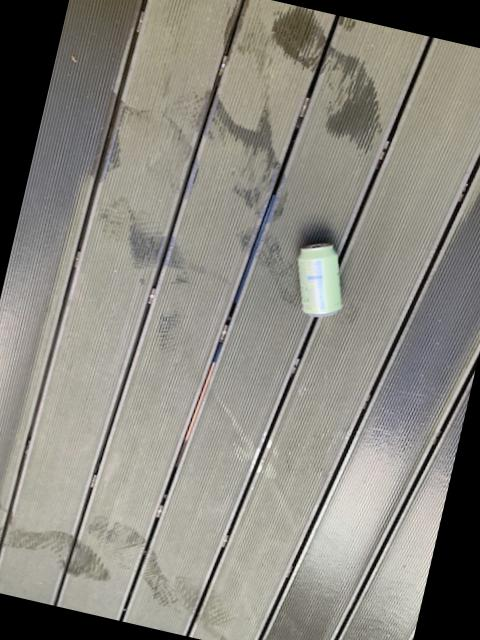metal: (296, 242, 340, 315)
